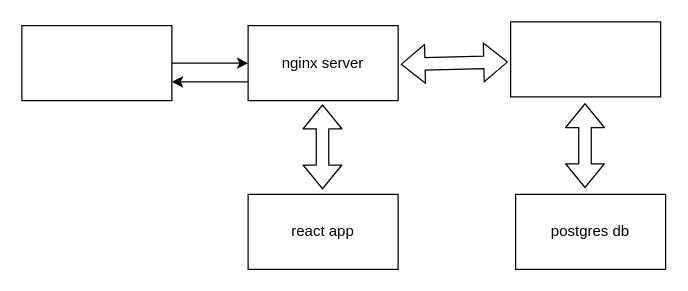
The diagram is 688 pixels wide and 291 high, and some of its shapes have lost their labels. Each missing label, with the centre of its shape:
"Client" belongs at [96,62].
"flask app (gunicorn server)" belongs at [585,59].
